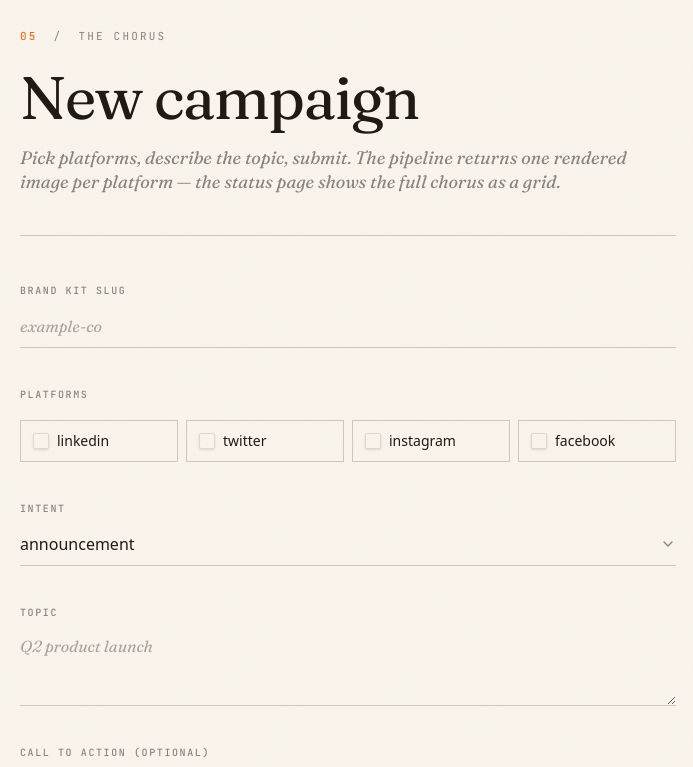
NewCampaignPage › rejects submission with no platforms selected
The width and height of the screenshot is (693, 767).
Type "shrubnet" into the field labelled "Brand kit slug" at (348, 326), box [20, 304, 676, 348]
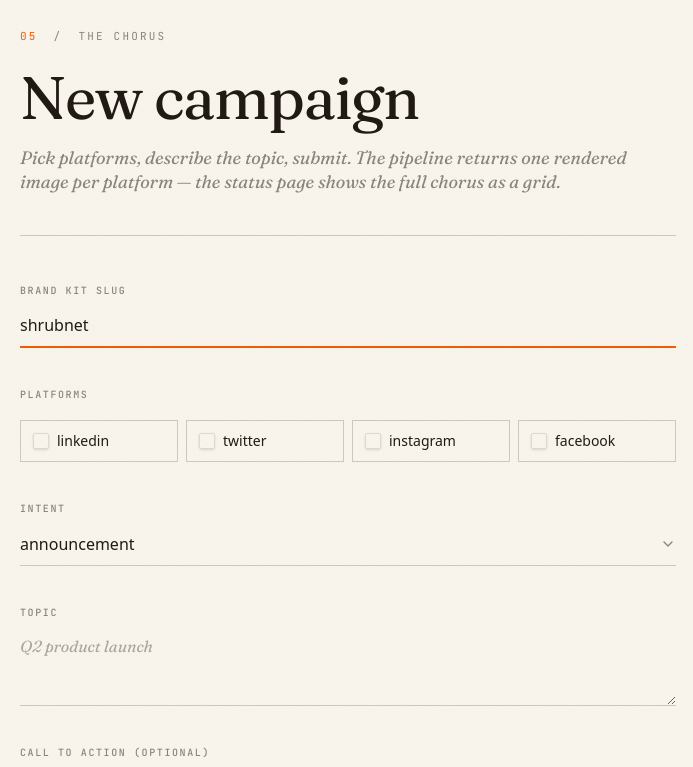
Type "Q2 launch" into the text box labelled "Topic" at (348, 666), box [20, 626, 676, 706]
(page scrolled)
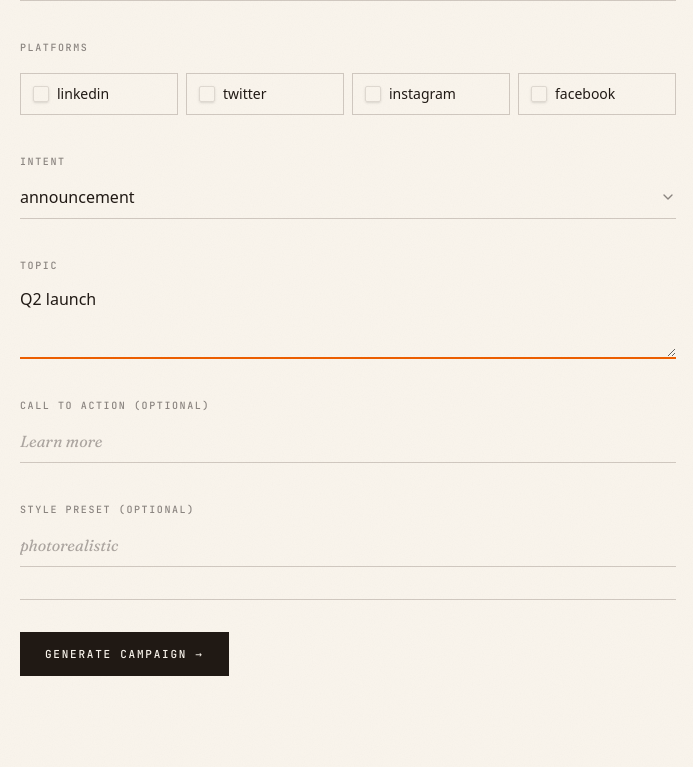
Click the button "Generate campaign →" at (124, 654), box [20, 632, 229, 676]
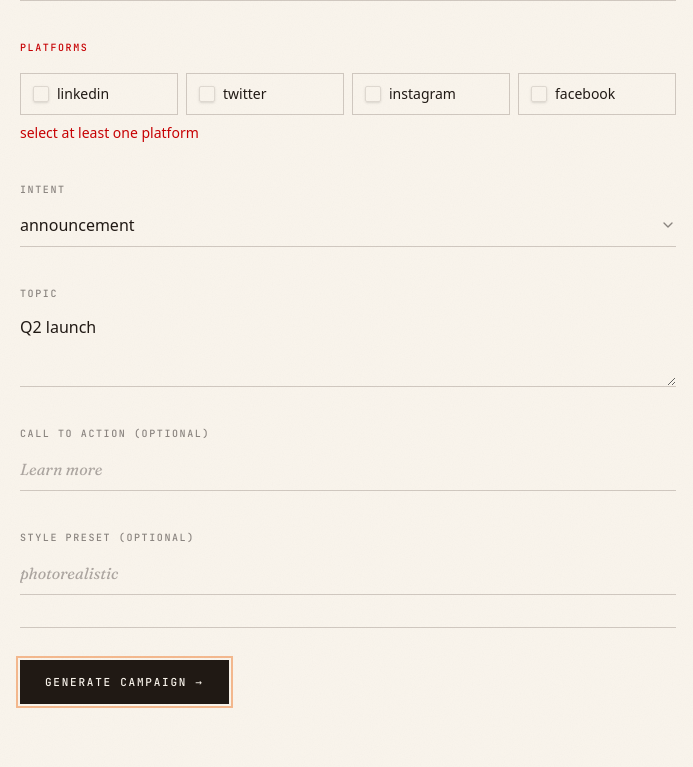
Expected: the text "select at least one platform" is shown, [20, 123, 199, 142]
